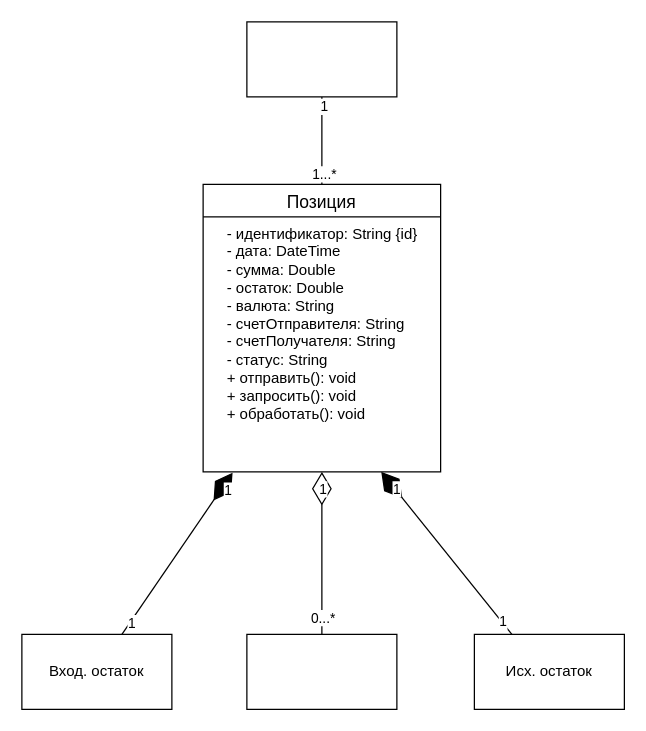
Image size: 646x731. Some labels were removed from this diagram. The shapes that lost their labels are listed below. From the top down, each one's centre as x and y in pixels, then its label:
point (321, 59): Счёт НОСТРО
point (321, 671): Платёж
